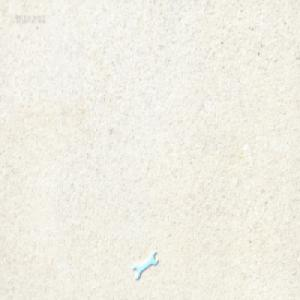Wrench: (132, 250, 157, 278)
